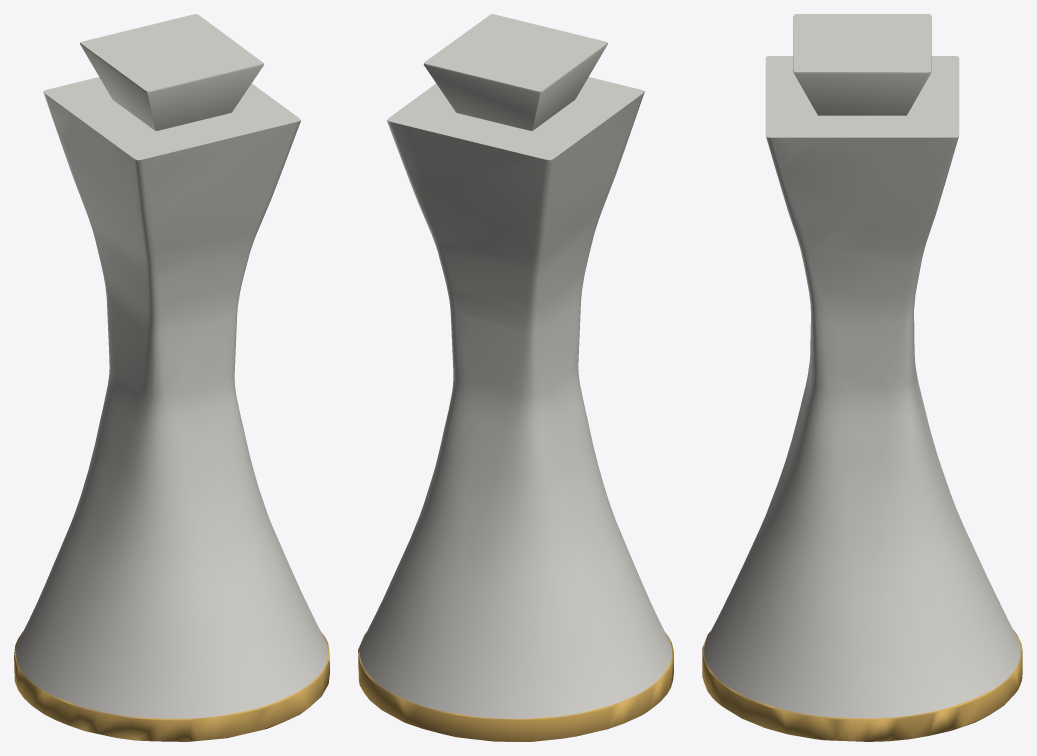
The model's file is 06_kral_bila.glb.
3 renders of one model, left to right at view 1: azimuth 30°, elevation 25°; view 2: azimuth 150°, elevation 25°; view 3: azimuth 270°, elevation 25°, orthographic.
Visible parts, largest first — view 1: 06_kral_telo_0, 06_kral_telo_1, 06_kral_podstavec; view 2: 06_kral_telo_0, 06_kral_telo_1, 06_kral_podstavec; view 3: 06_kral_telo_0, 06_kral_telo_1, 06_kral_podstavec.
Part boxes in pixels (x1=…): 06_kral_telo_0: x1=16, y1=77, x2=328, y2=718; 06_kral_telo_1: x1=80, y1=14, x2=264, y2=130; 06_kral_podstavec: x1=14, y1=632, x2=329, y2=741; 06_kral_telo_0: x1=359, y1=77, x2=671, y2=718; 06_kral_telo_1: x1=423, y1=14, x2=607, y2=130; 06_kral_podstavec: x1=358, y1=632, x2=673, y2=741; 06_kral_telo_0: x1=704, y1=56, x2=1020, y2=718; 06_kral_telo_1: x1=793, y1=14, x2=931, y2=115; 06_kral_podstavec: x1=702, y1=630, x2=1022, y2=741.
Size of the model in its own units: 0.0459 by 0.1 by 0.046.
